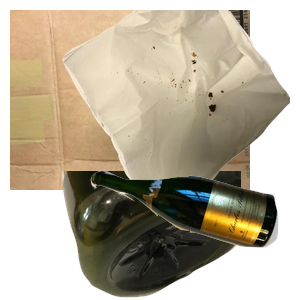cardboard: (10, 10, 250, 190)
glass: (88, 167, 300, 300)
plastic: (60, 171, 300, 300)
trash: (60, 10, 300, 190)
